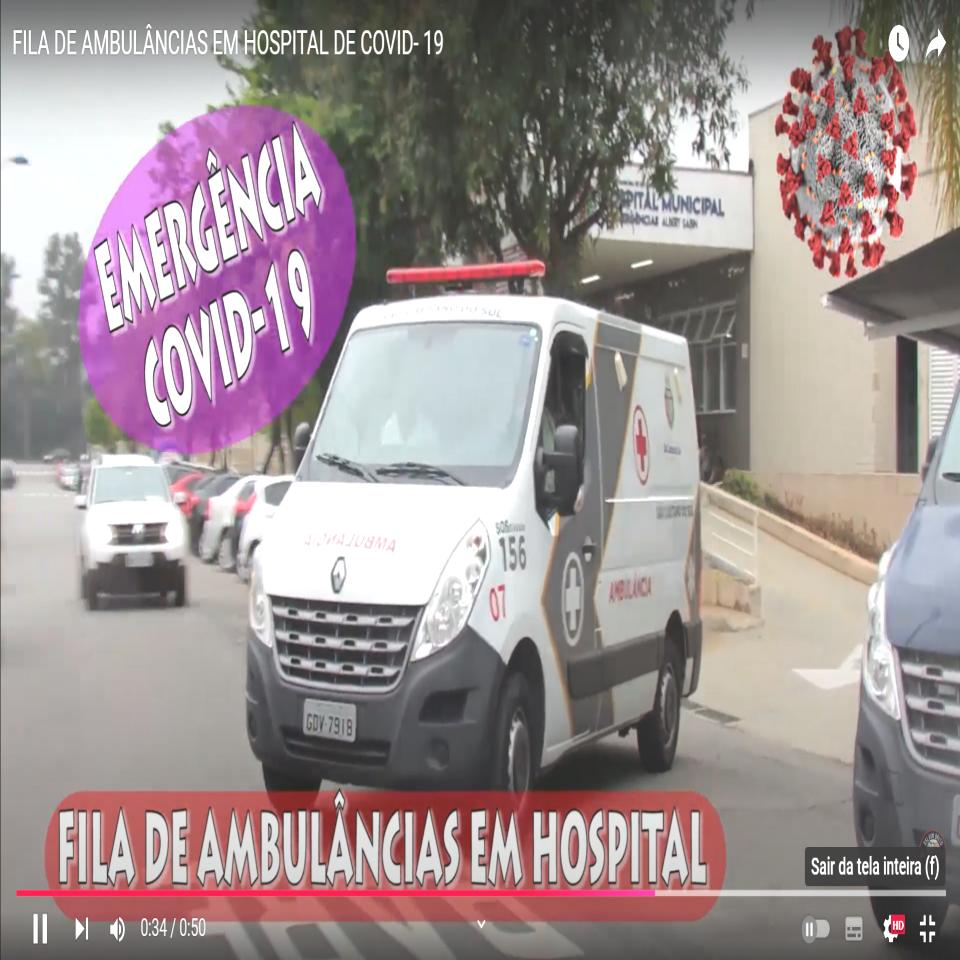ambulancia: (247, 252, 706, 790)
